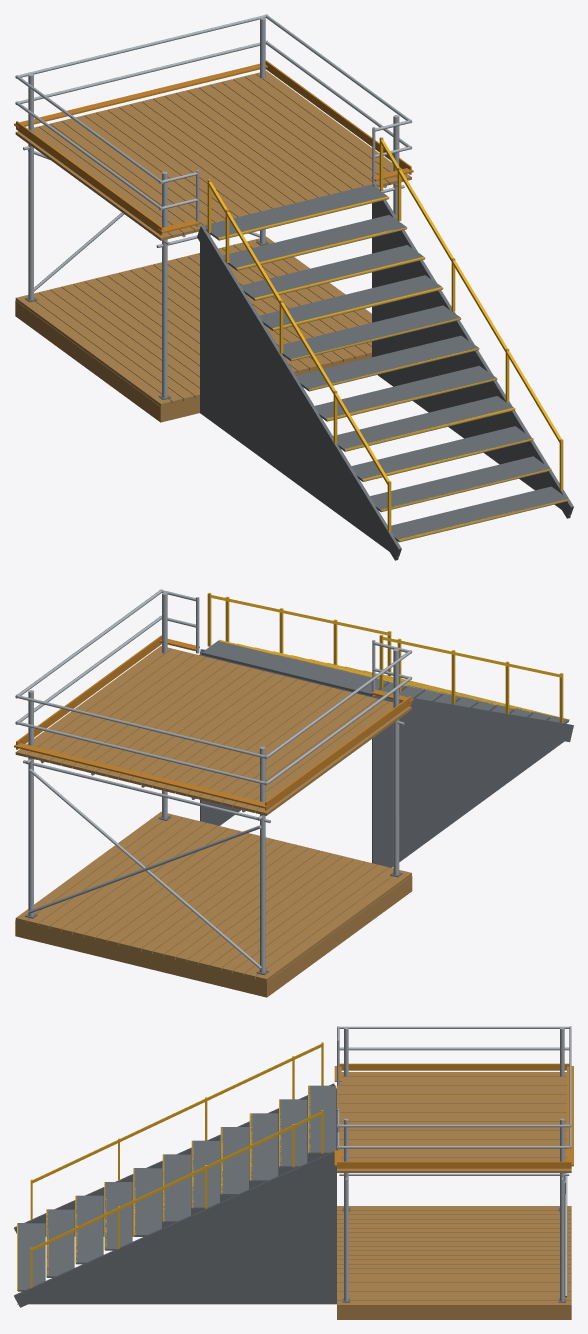
The model's file is gs-scaffold.glb.
The picture shows the model from 3 angles, top to bottom: view 1: azimuth 30°, elevation 25°; view 2: azimuth 150°, elevation 25°; view 3: azimuth 270°, elevation 25°; orthographic projection. The views are drawn at different scales.
Visible parts, largest first — view 1: gs-scaffold; view 2: gs-scaffold; view 3: gs-scaffold.
Boxes of the visible parts, x1,y1,x2,y2 form: gs-scaffold: (14, 14, 573, 560); gs-scaffold: (14, 589, 573, 997); gs-scaffold: (14, 1026, 573, 1319).
Bounding box in the file's own units: 5.01 × 4.69 × 11.94.
